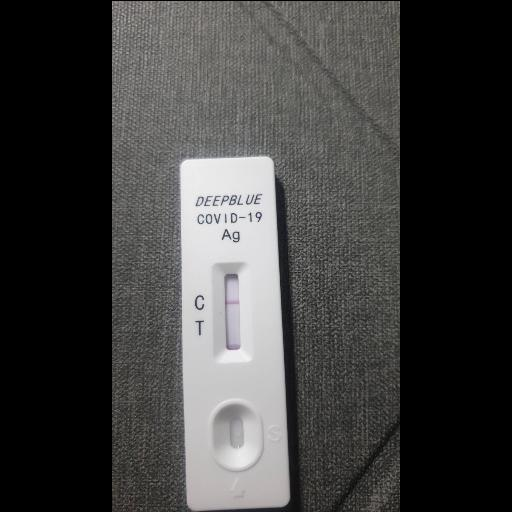Neg: (177, 156, 290, 512)
